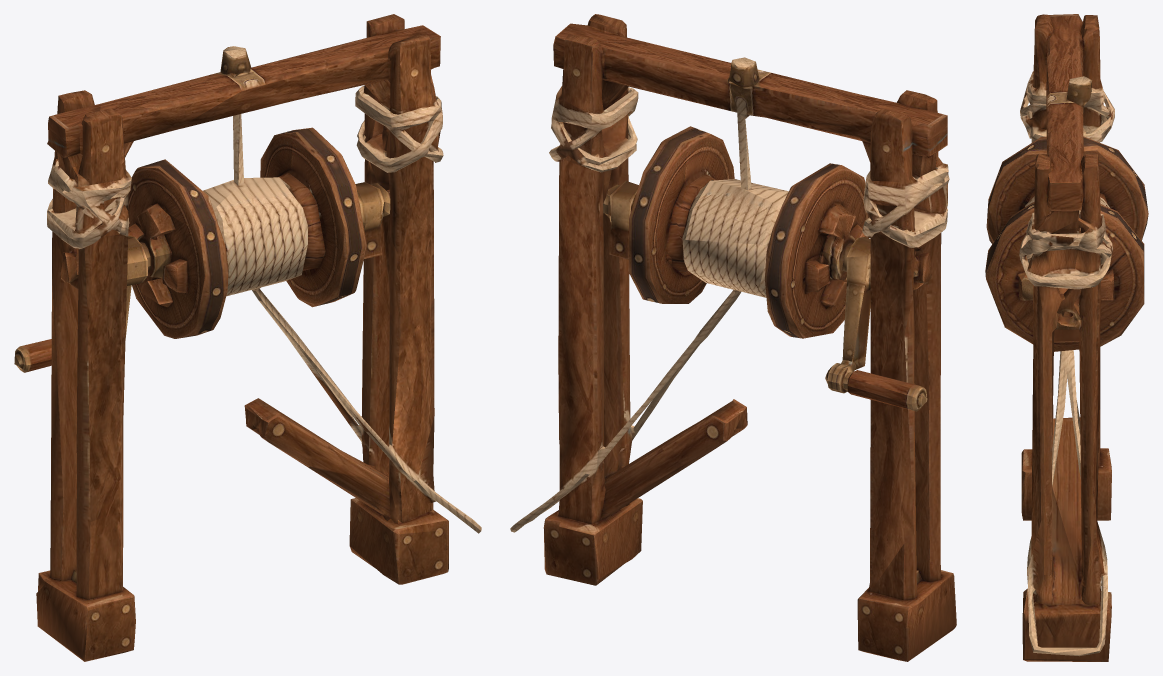
Rendered from marble-winch.glb.
The picture shows the model from 3 angles, left to right: view 1: azimuth 30°, elevation 25°; view 2: azimuth 150°, elevation 25°; view 3: azimuth 270°, elevation 25°; orthographic projection. The views are drawn at different scales.
Visible parts, largest first — view 1: marble-winch; view 2: marble-winch; view 3: marble-winch.
Boxes of the visible parts, x1,y1,x2,y2 form: marble-winch: [14, 14, 481, 661]; marble-winch: [510, 14, 956, 661]; marble-winch: [985, 14, 1148, 661].
Size of the model in its own units: 1.55 by 1.9 by 0.5608.
Materials: 1 (1 with a texture image).
